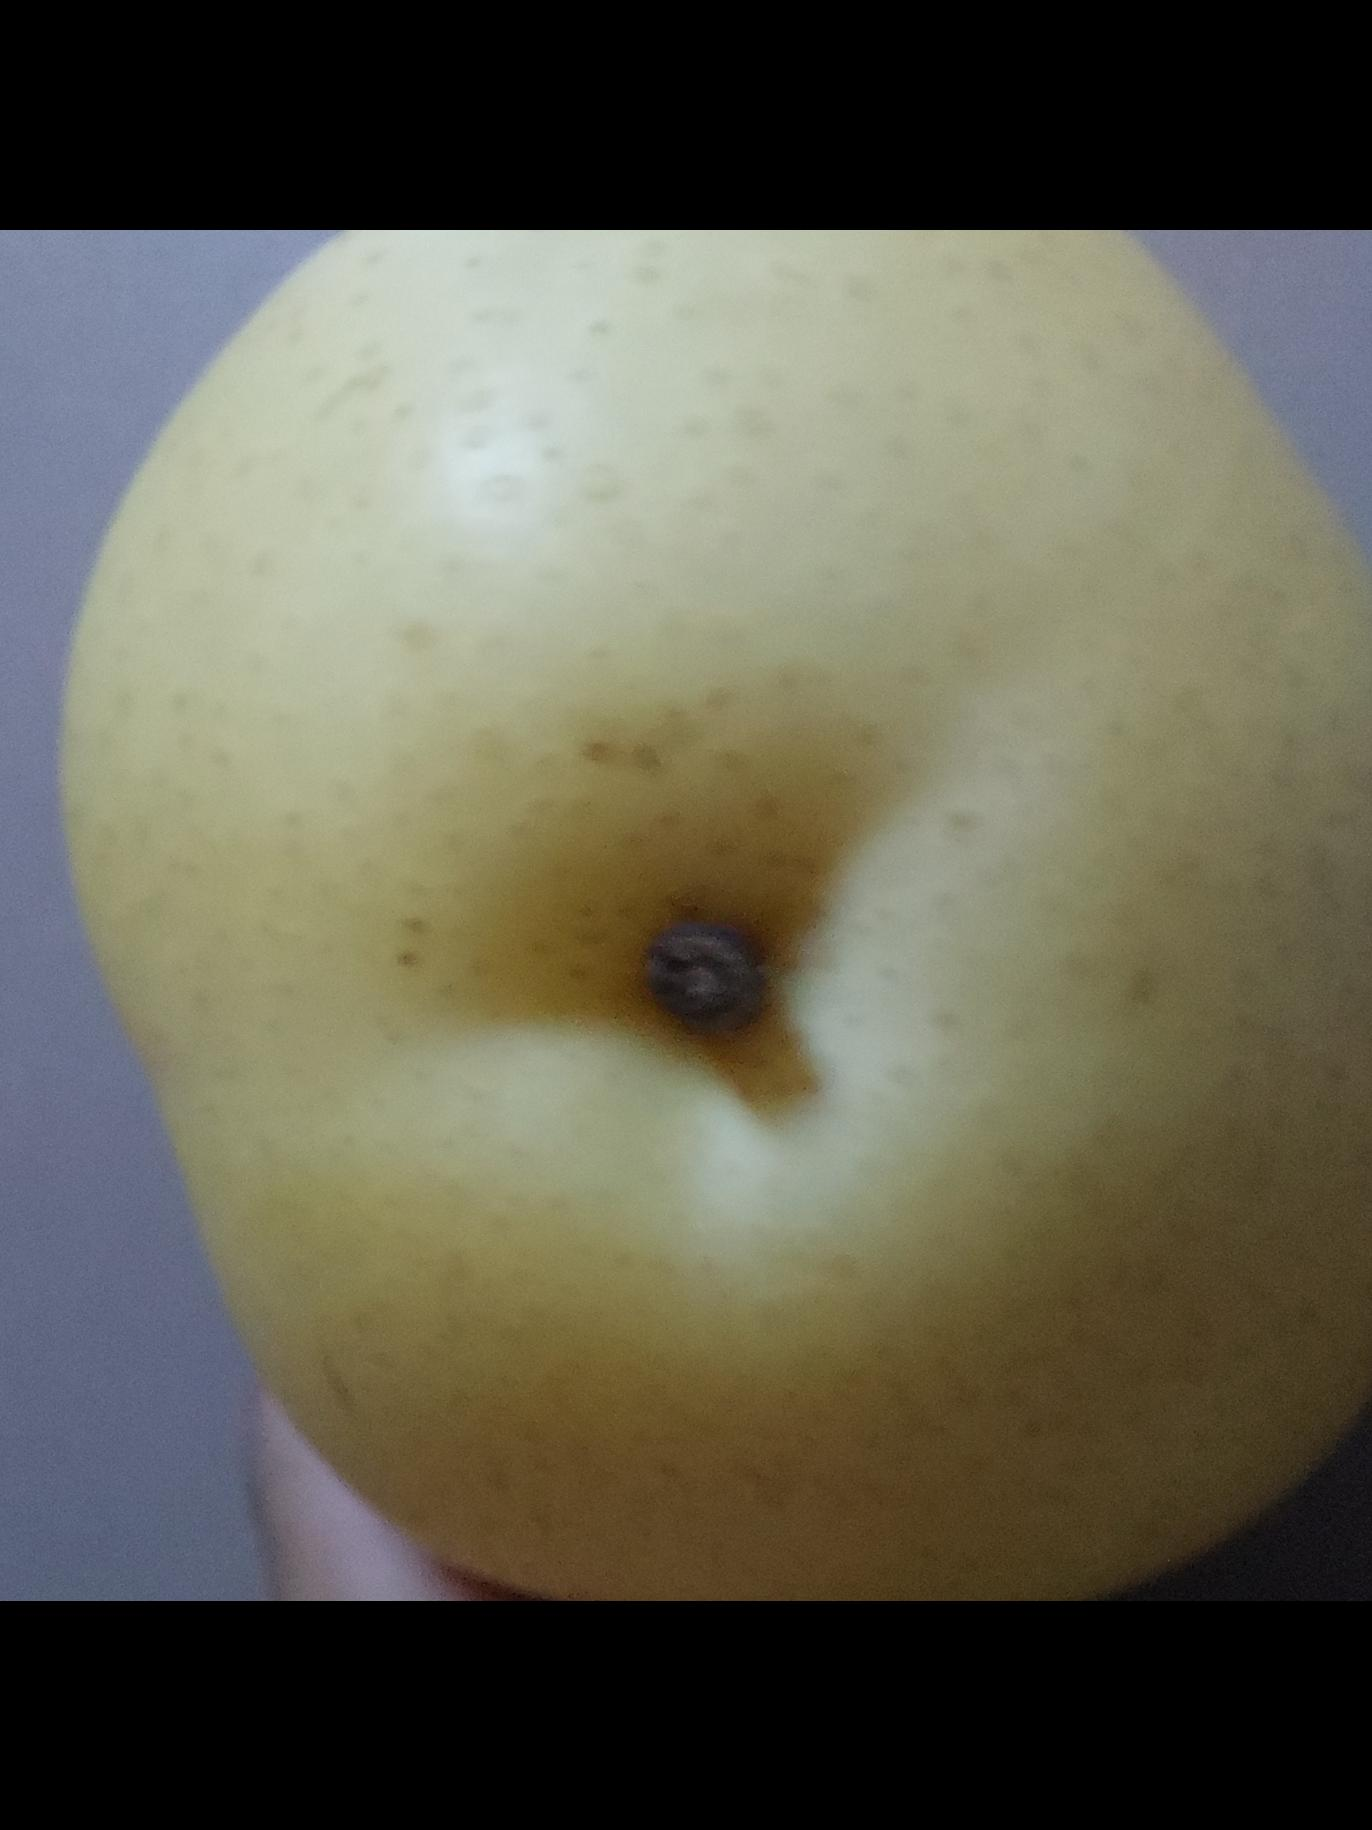Good Pear: (63, 229, 1372, 1601)
